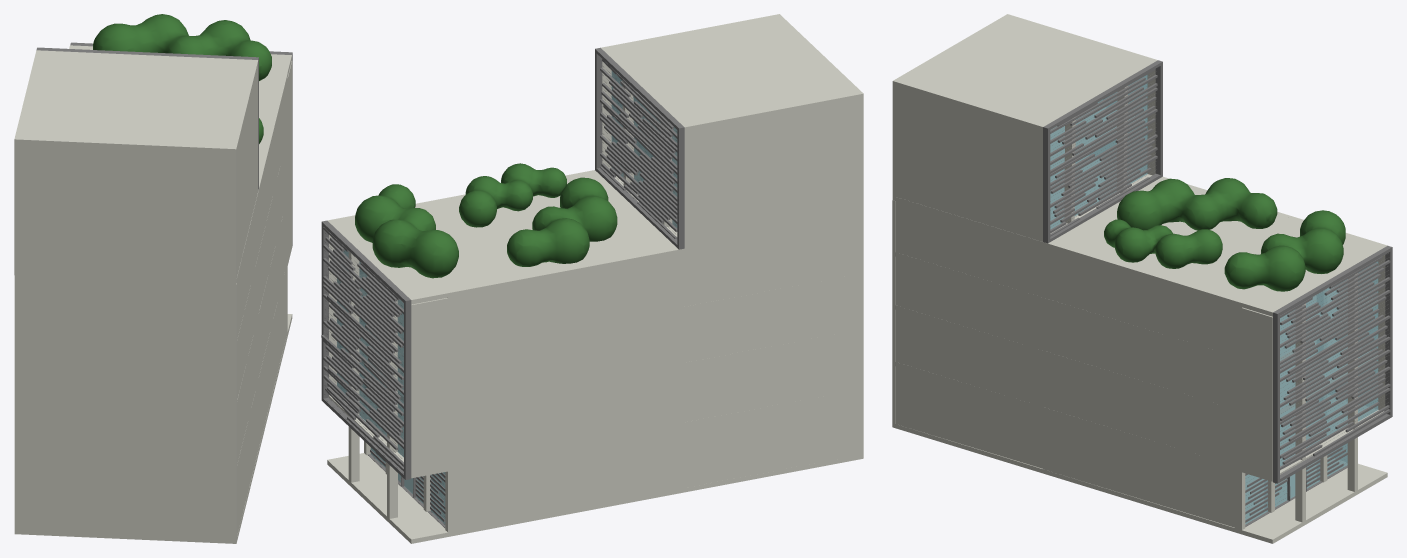
3 renders of one model, left to right at view 1: azimuth 30°, elevation 25°; view 2: azimuth 150°, elevation 25°; view 3: azimuth 270°, elevation 25°, orthographic. The views are drawn at different scales.
Parts seen in each view (by area): view 1: SketchUp.898, SketchUp.916, SketchUp.915, SketchUp.919, Mball.008, SketchUp.905, SketchUp.918, SketchUp.1241, SketchUp.921, SketchUp.913, SketchUp.917, SketchUp.925 (+1 smaller); view 2: SketchUp.914, SketchUp.916, SketchUp.920, SketchUp.898, SketchUp.906, Mball.008, Mball.007, Mball.006, SketchUp.1241, SketchUp.927, SketchUp.917, SketchUp.918 (+7 smaller); view 3: SketchUp.916, SketchUp.915, SketchUp.919, SketchUp.898, Mball.007, Mball.008, SketchUp.905, SketchUp.901, Mball.006, SketchUp.1241, SketchUp.927, SketchUp.926 (+9 smaller).
Part boxes in pixels (x1,y1,x2,y2): SketchUp.898: [14, 275, 292, 543]; SketchUp.916: [14, 45, 291, 284]; SketchUp.915: [258, 77, 286, 448]; SketchUp.919: [236, 191, 258, 535]; Mball.008: [93, 14, 271, 80]; SketchUp.905: [287, 61, 292, 260]; SketchUp.918: [16, 141, 286, 347]; SketchUp.1241: [36, 47, 258, 189]; SketchUp.921: [14, 209, 238, 221]; SketchUp.913: [280, 73, 287, 335]; SketchUp.917: [27, 243, 292, 472]; SketchUp.925: [237, 202, 286, 405]; SketchUp.914: [445, 248, 684, 532]; SketchUp.916: [327, 14, 863, 304]; SketchUp.920: [684, 220, 859, 487]; SketchUp.898: [327, 219, 863, 543]; SketchUp.906: [411, 298, 447, 473]; Mball.008: [355, 184, 458, 278]; Mball.007: [507, 177, 617, 266]; Mball.006: [459, 163, 566, 227]; SketchUp.1241: [595, 47, 684, 249]; SketchUp.927: [321, 220, 411, 479]; SketchUp.917: [329, 389, 863, 478]; SketchUp.918: [337, 273, 863, 360]; SketchUp.916: [892, 14, 1387, 316]; SketchUp.915: [1043, 242, 1236, 527]; SketchUp.919: [896, 197, 1042, 468]; SketchUp.898: [892, 200, 1387, 543]; Mball.007: [1117, 178, 1277, 230]; Mball.008: [1224, 210, 1345, 291]; SketchUp.905: [1242, 307, 1272, 477]; SketchUp.901: [1280, 261, 1378, 466]; Mball.006: [1104, 219, 1222, 268]; SketchUp.1241: [1043, 60, 1162, 243]; SketchUp.927: [1273, 245, 1392, 483]; SketchUp.926: [1050, 75, 1147, 229].
Size of the model in its own units: 2.42 by 2.11 by 2.76.
